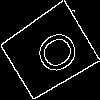O: (24, 26, 83, 84)
